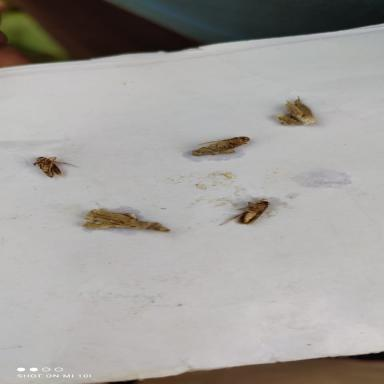pbw: (213, 196, 272, 229), (29, 155, 84, 178), (190, 135, 253, 155), (274, 96, 315, 126)
